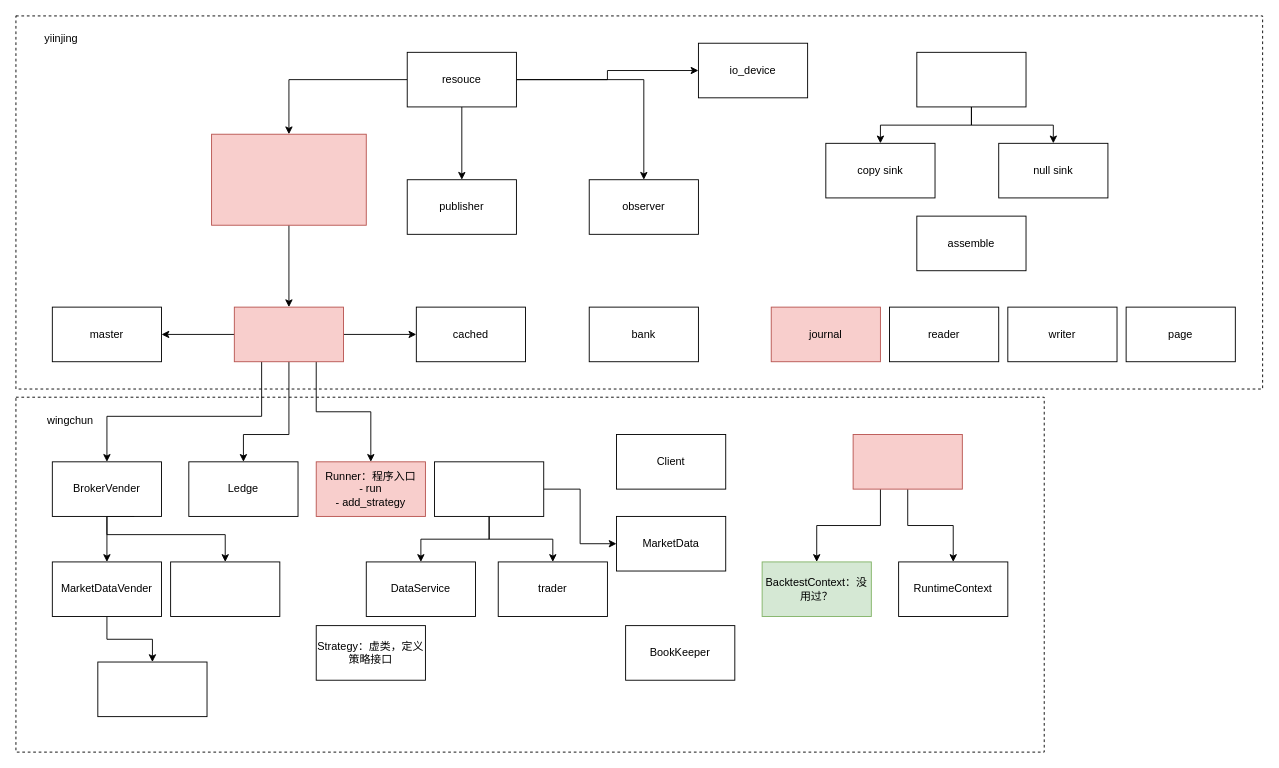
Image size: 1279x768. Some labels were removed from this diagram. Here are the shapes that lost their labels. From the top down, the box of each, then its label:
(916, 51, 1026, 107): sink
(211, 133, 366, 225): hero - banks - channels - locations - rx::events
(233, 306, 344, 362): apprentice
(852, 434, 962, 489): Context：核心类 - add_account - subscribe
(434, 461, 544, 516): BrokerService
(170, 561, 280, 617): TraderVender
(97, 661, 207, 717): Bar
